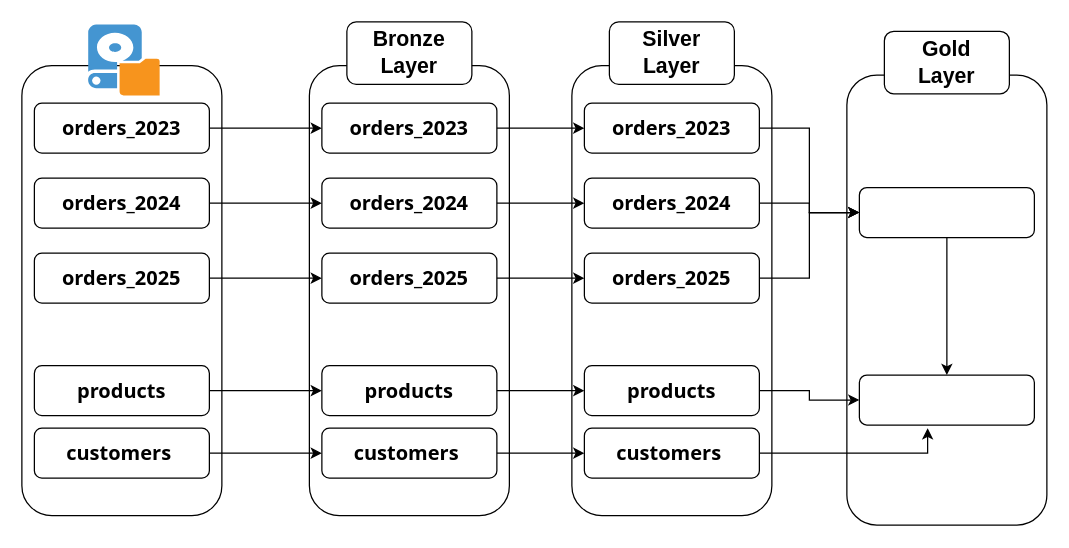
This 1069x548 diagram has some shape labels left out. Each missing label, with the centre of its shape:
"all_orders" goes at (946,212).
"final_table" goes at (946,399).
